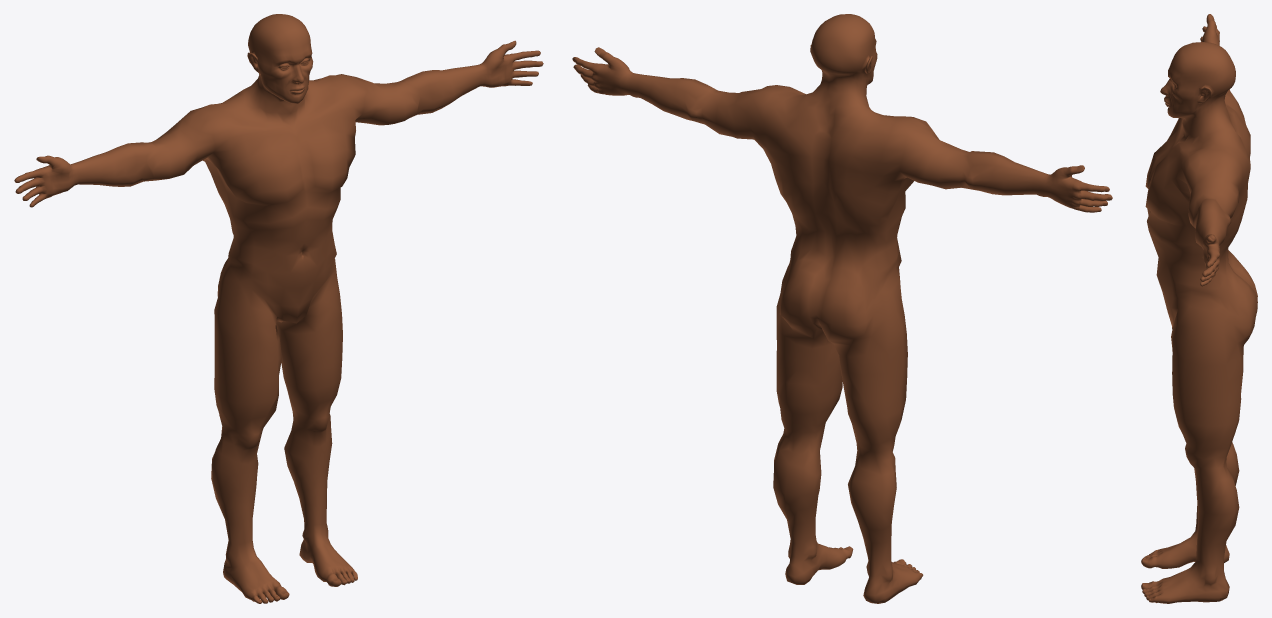
File: Human_Body_Base_Mesh_Male_3.6v.obj
3 views of the same model, side by side, from view 1: azimuth 30°, elevation 25°; view 2: azimuth 150°, elevation 25°; view 3: azimuth 270°, elevation 25° (orthographic). The views are drawn at different scales.
Parts seen in each view (by area): view 1: Body; view 2: Body; view 3: Body.
Boxes of the visible parts, x1=… form: Body: x1=14, y1=14, x2=543, y2=603; Body: x1=572, y1=14, x2=1112, y2=603; Body: x1=1141, y1=14, x2=1257, y2=603.
Bounding box in the file's own units: 1.79 × 1.8 × 0.3558.
